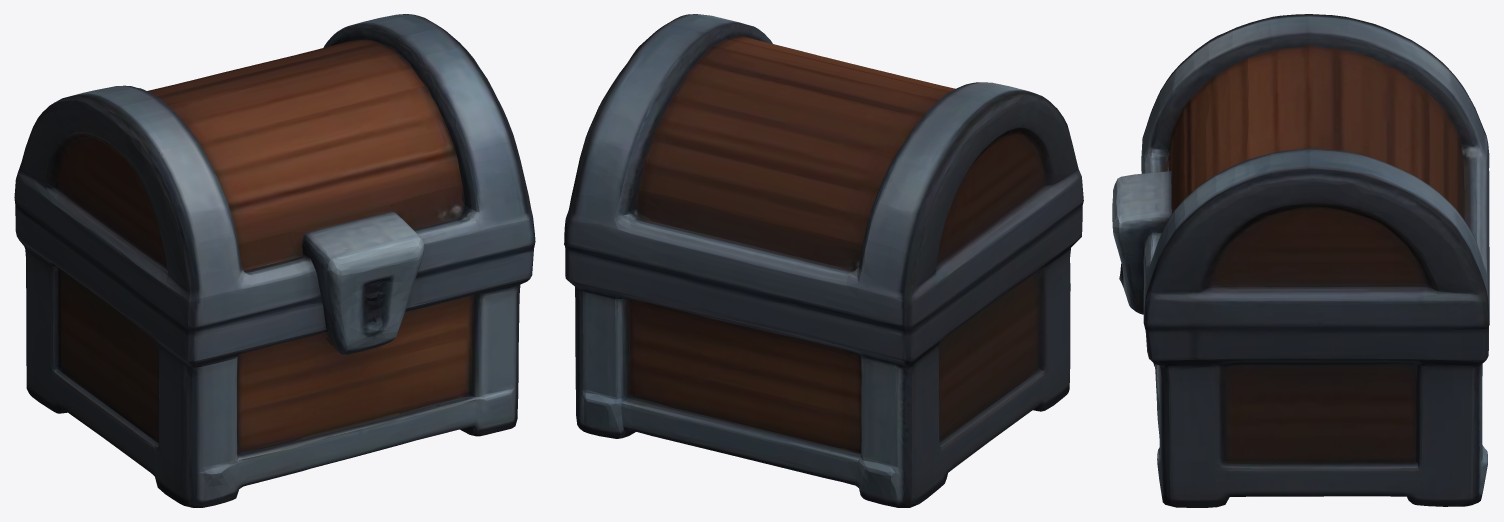
Rendered from treasure_chest.glb.
3 renders of one model, left to right at view 1: azimuth 30°, elevation 25°; view 2: azimuth 150°, elevation 25°; view 3: azimuth 270°, elevation 25°, orthographic. The views are drawn at different scales.
Parts seen in each view (by area): view 1: world; view 2: world; view 3: world.
Boxes of the visible parts, x1,y1,x2,y2 form: world: (14, 14, 535, 507); world: (564, 14, 1083, 507); world: (1112, 14, 1489, 507).
Size of the model in its own units: 0.4865 by 0.4601 by 0.4662.
Materials: 1 (1 with a texture image).
